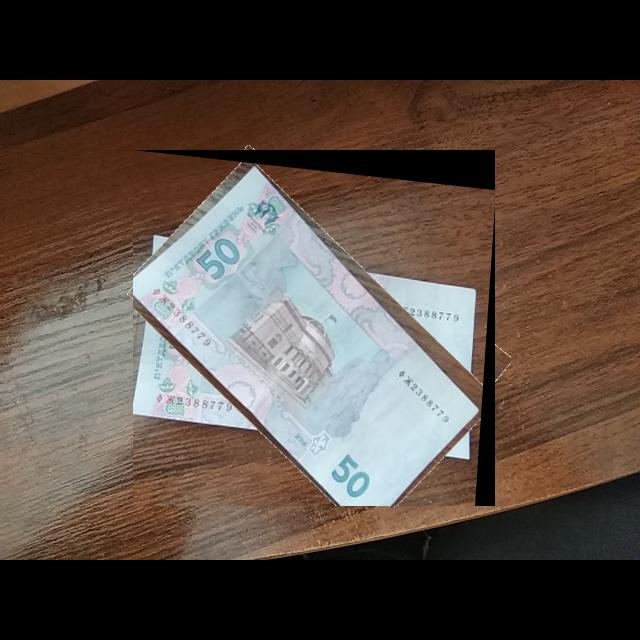50uah: (133, 161, 485, 507)
